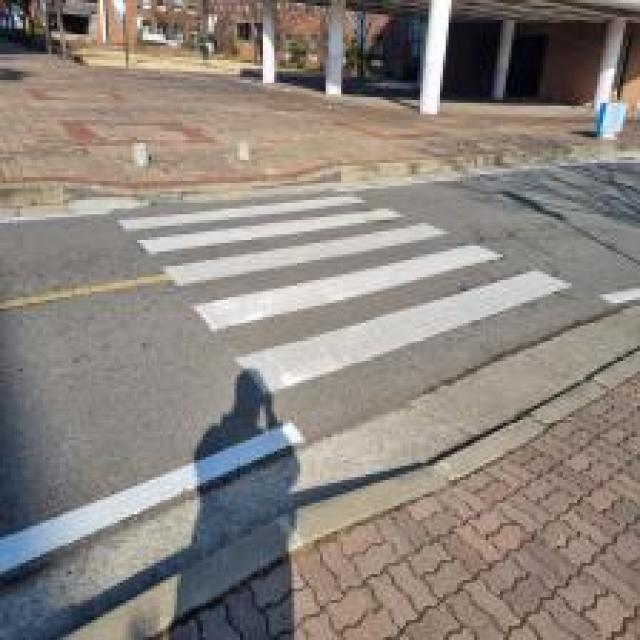crosswalk: (104, 176, 576, 401)
